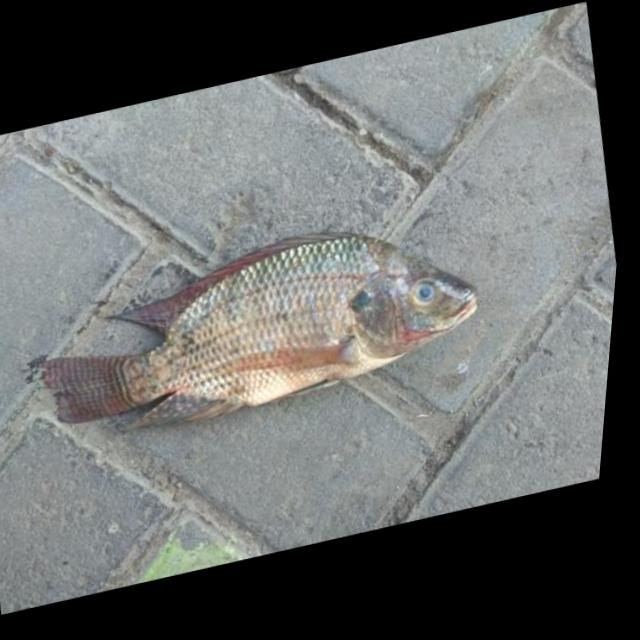Tilapia: (15, 192, 501, 461)
